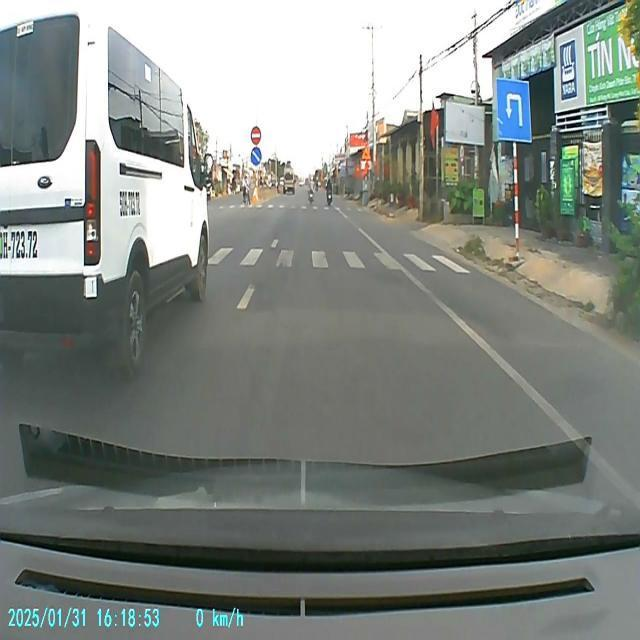102-cam-di-nguoc-chieu: (251, 126, 261, 144)
302a-huong-phai-di-vong-chuong-ngai-vat-1: (250, 146, 262, 166)
